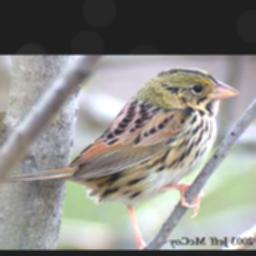Sparrow: (2, 66, 241, 248)
